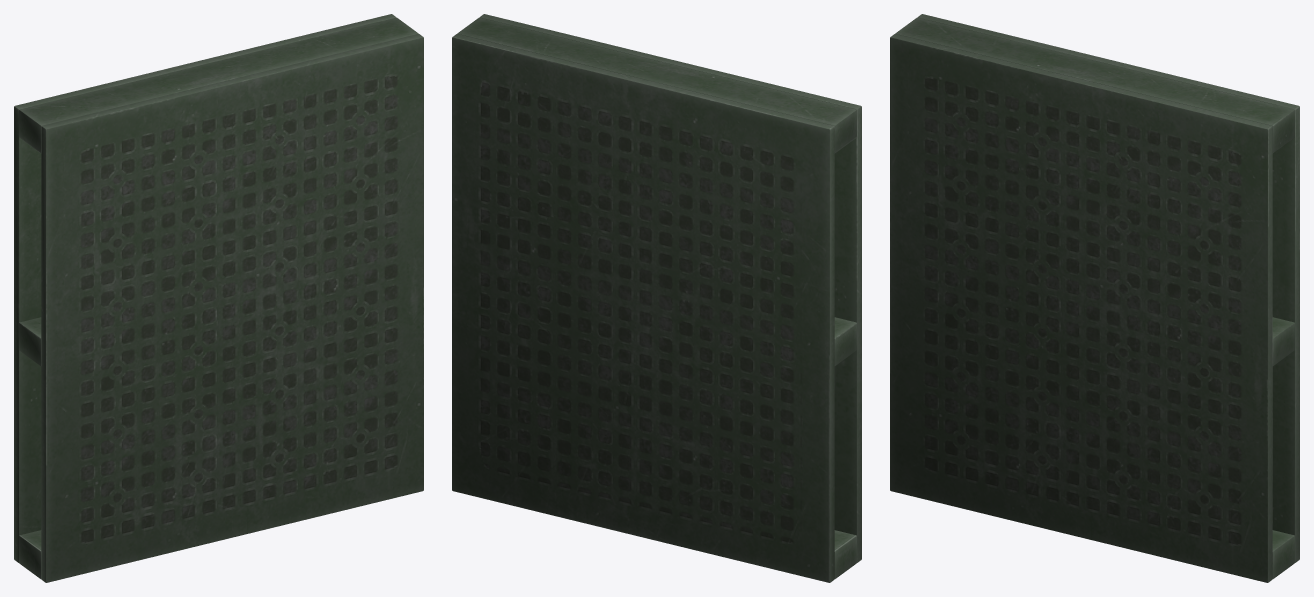
Rendered from Plastic_Pallet_01.obj.
The picture shows the model from 3 angles, left to right: view 1: azimuth 30°, elevation 25°; view 2: azimuth 150°, elevation 25°; view 3: azimuth 330°, elevation 25°; orthographic projection.
Visible parts, largest first — view 1: Plastic_Pallet_01; view 2: Plastic_Pallet_01; view 3: Plastic_Pallet_01.
Boxes of the visible parts, bbox=[...] form: Plastic_Pallet_01: bbox=[14, 14, 423, 582]; Plastic_Pallet_01: bbox=[452, 14, 861, 582]; Plastic_Pallet_01: bbox=[890, 14, 1299, 582].
Size of the model in its own units: 1.22 by 1.4 by 0.18.
Materials: 1 (1 with a texture image).
